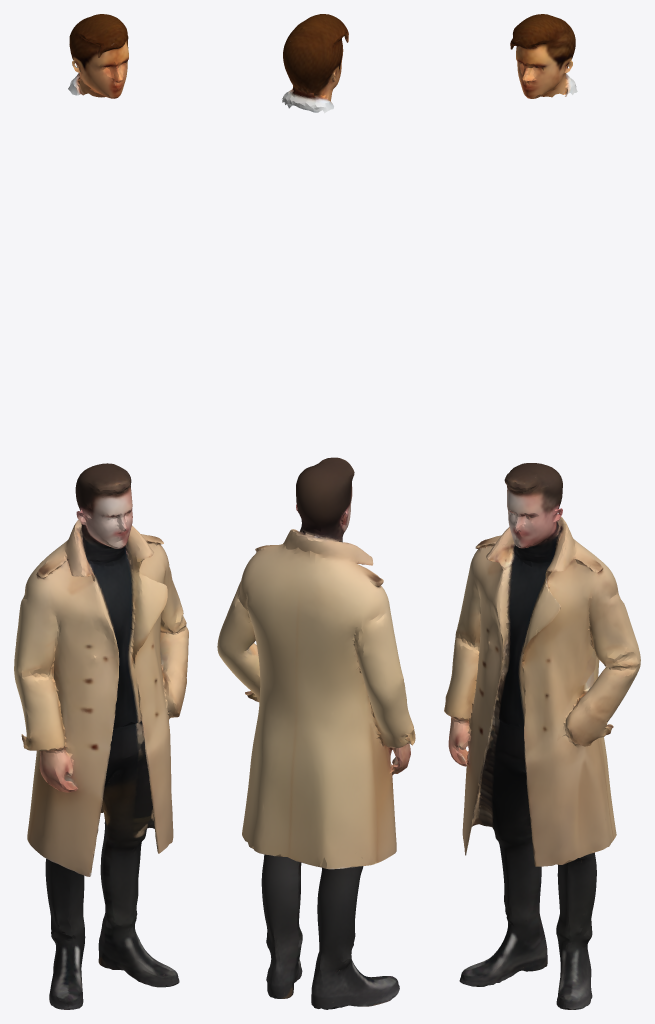
File: autumn_faced.glb
3 views of the same model, side by side, from view 1: azimuth 30°, elevation 25°; view 2: azimuth 150°, elevation 25°; view 3: azimuth 330°, elevation 25° (orthographic).
Parts seen in each view (by area): view 1: autumn_upgraded, head_autumn_faced; view 2: autumn_upgraded, head_autumn_faced; view 3: autumn_upgraded, head_autumn_faced.
Boxes of the visible parts, x1=… form: autumn_upgraded: x1=14, y1=463, x2=188, y2=1009; head_autumn_faced: x1=68, y1=14, x2=128, y2=98; autumn_upgraded: x1=217, y1=457, x2=415, y2=1009; head_autumn_faced: x1=282, y1=14, x2=348, y2=113; autumn_upgraded: x1=444, y1=463, x2=640, y2=1009; head_autumn_faced: x1=510, y1=14, x2=577, y2=98.
Size of the model in its own units: 0.6726 by 3.53 by 0.3997.
Materials: 2 (2 with a texture image).
